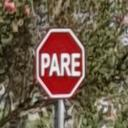Pare: (34, 25, 86, 100)
